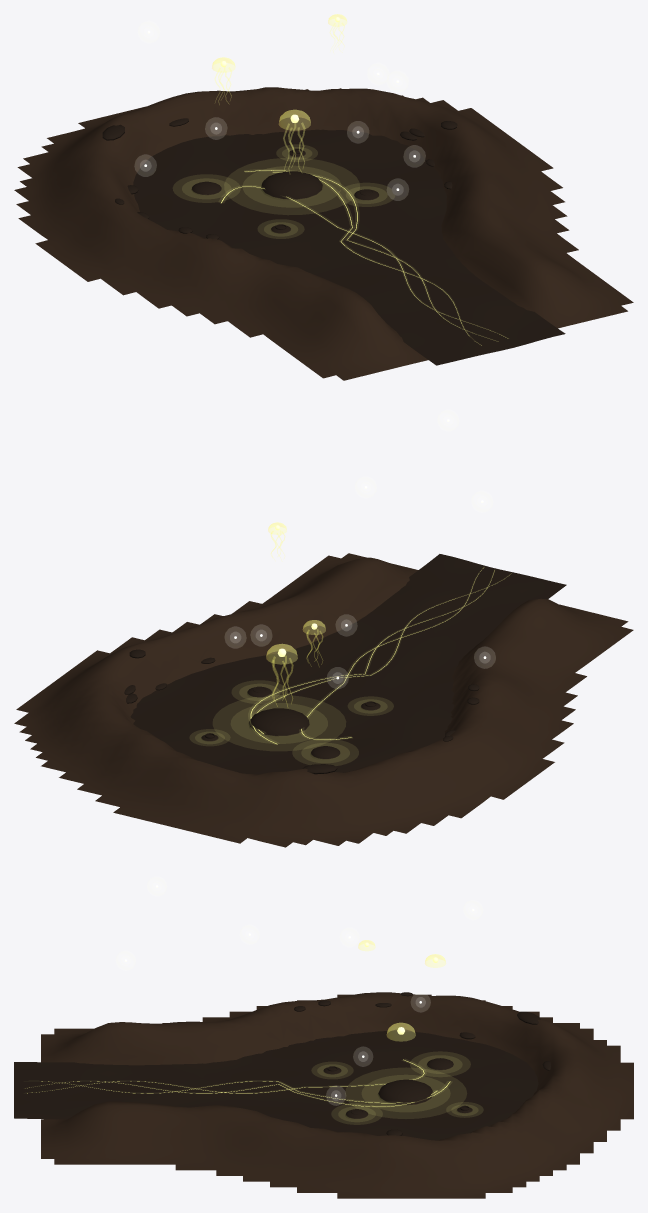
Rendered from mudpit_burbler.glb.
The picture shows the model from 3 angles, top to bottom: view 1: azimuth 30°, elevation 25°; view 2: azimuth 150°, elevation 25°; view 3: azimuth 270°, elevation 25°; orthographic projection. The views are drawn at different scales.
Visible parts, largest first — view 1: Burbler_Banks, Burbler_Mud, Burbler_Bubble_0_Dome, Burbler_Wisp_0_Bell; view 2: Burbler_Banks, Burbler_Mud, Burbler_Bubble_0_Dome; view 3: Burbler_Banks, Burbler_Mud, Burbler_Bubble_0_Dome.
Boxes of the visible parts, x1,y1,x2,y2 form: Burbler_Banks: (14, 87, 633, 380); Burbler_Mud: (133, 129, 565, 365); Burbler_Bubble_0_Dome: (260, 171, 323, 201); Burbler_Wisp_0_Bell: (279, 109, 310, 130); Burbler_Banks: (14, 553, 633, 847); Burbler_Mud: (130, 554, 566, 774); Burbler_Bubble_0_Dome: (248, 708, 310, 737); Burbler_Banks: (41, 992, 633, 1198); Burbler_Mud: (14, 1030, 538, 1140); Burbler_Bubble_0_Dome: (377, 1079, 434, 1106).
Size of what is drawn, in the model's own units: 4.93 by 2.35 by 6.33.
